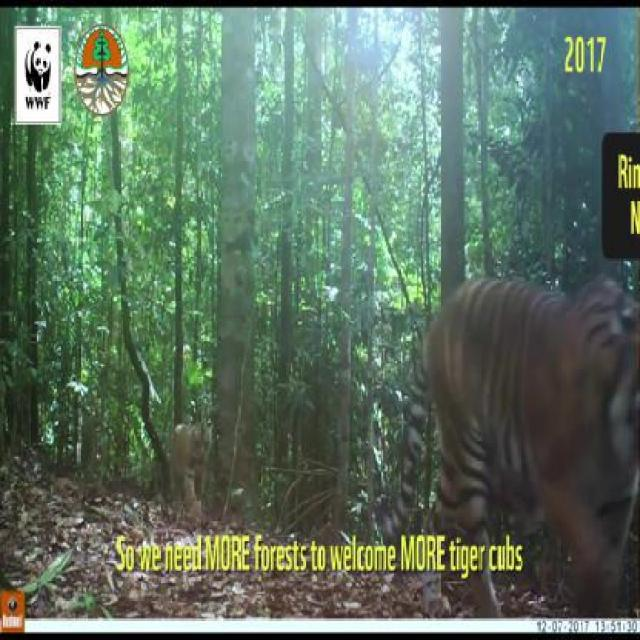Tiger: (398, 266, 638, 534), (165, 410, 217, 519)
